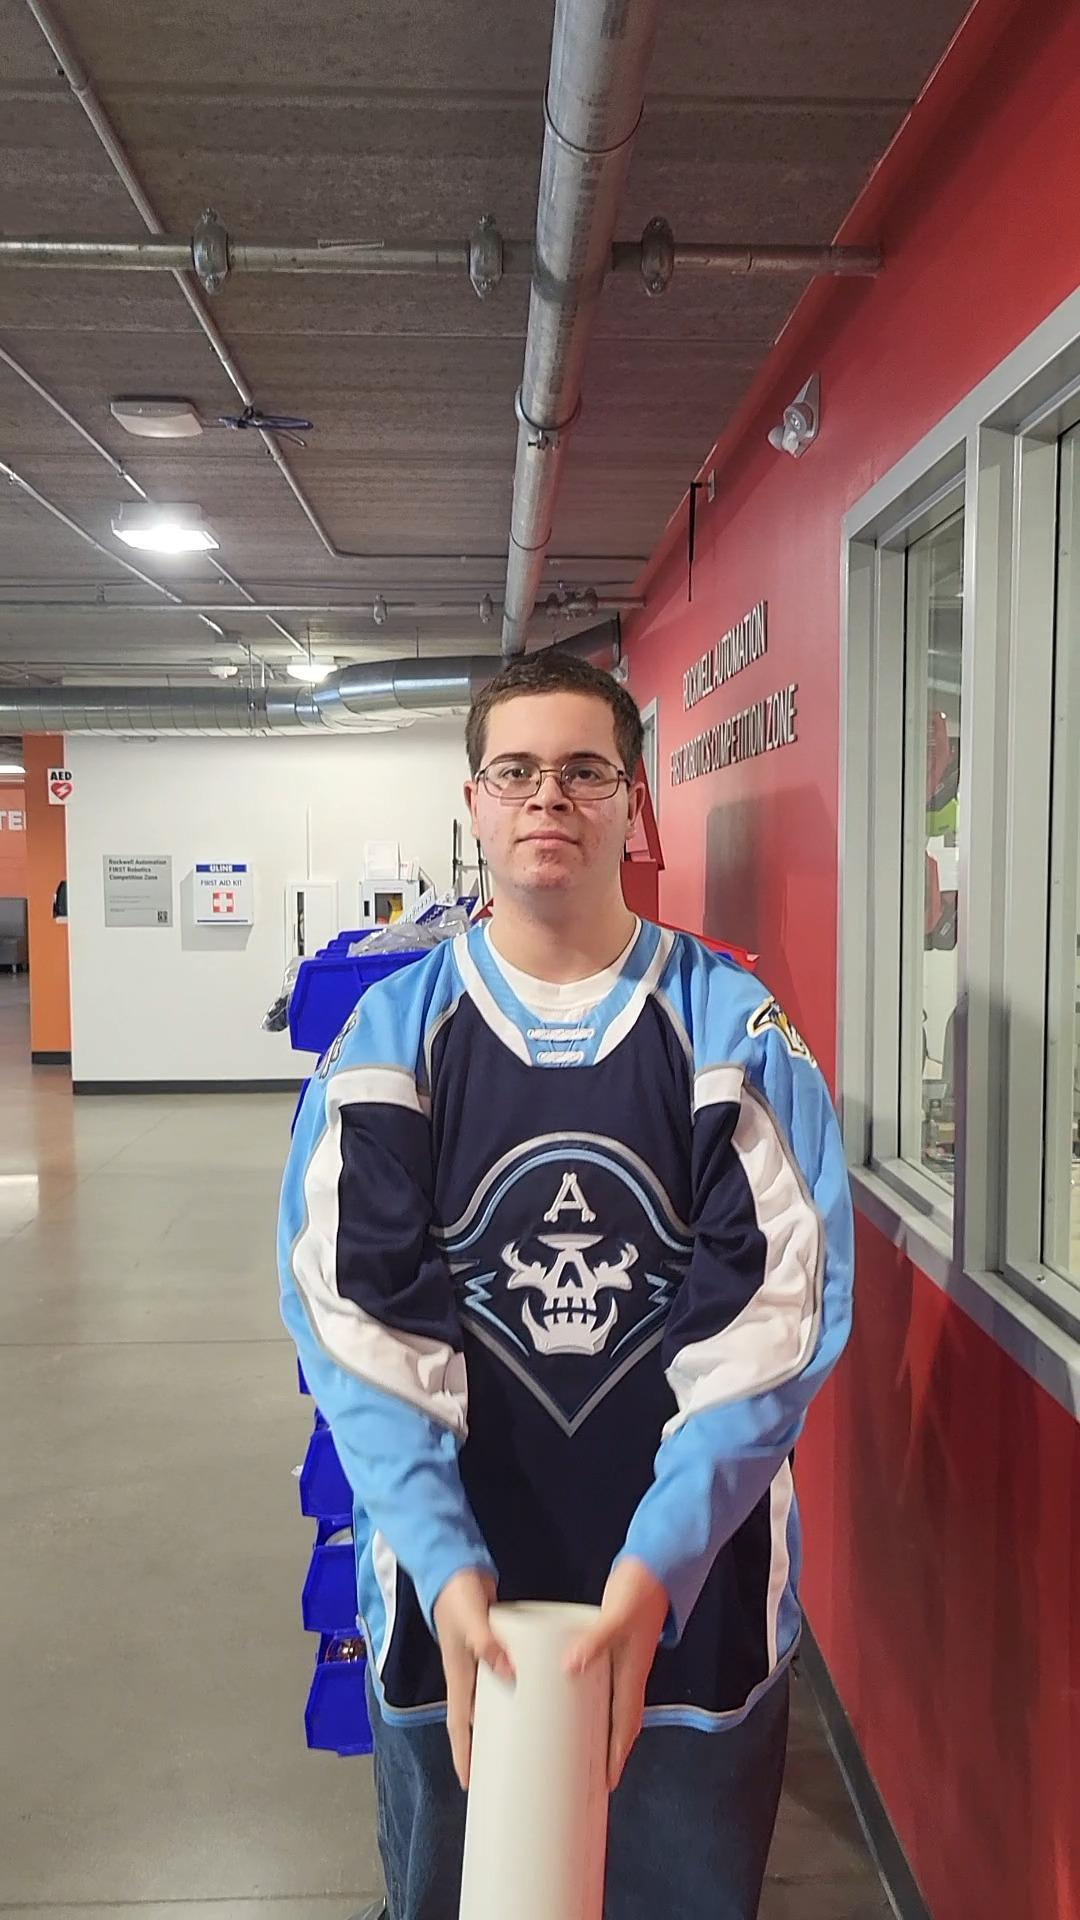coral: (454, 1586, 650, 1920)
